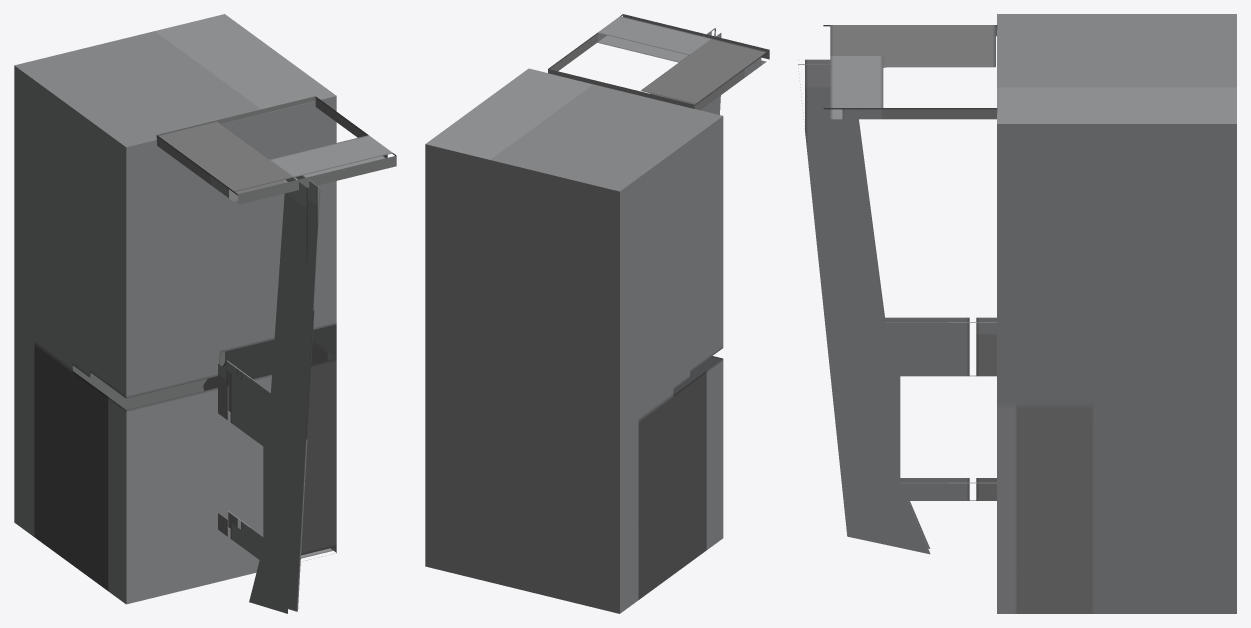
3 renders of one model, left to right at view 1: azimuth 30°, elevation 25°; view 2: azimuth 150°, elevation 25°; view 3: azimuth 270°, elevation 25°, orthographic. The views are drawn at different scales.
Size of the model in its own units: 0.4113 by 0.862 by 0.6926.
